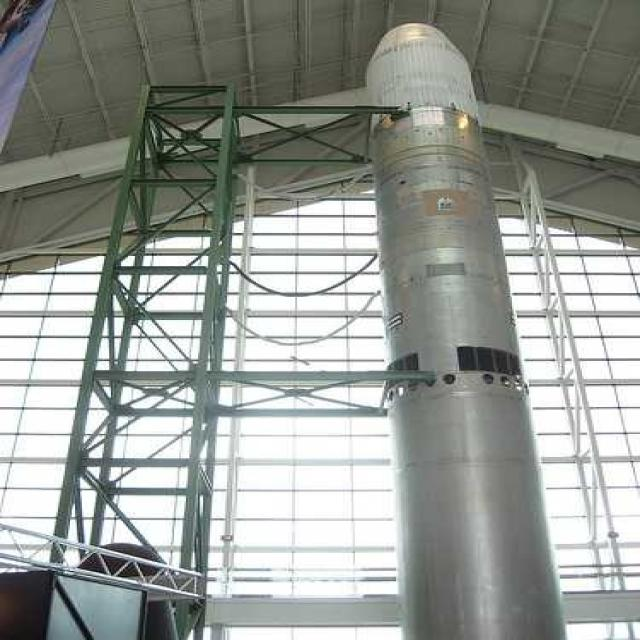missile: (360, 20, 566, 640)
